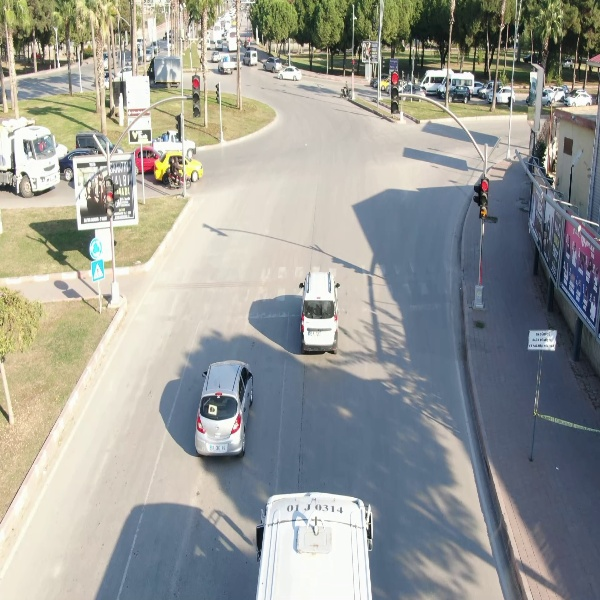car: (193, 359, 258, 459), (300, 268, 342, 354), (488, 84, 516, 106), (564, 89, 595, 106), (448, 84, 473, 104), (277, 65, 302, 82), (261, 55, 282, 75), (241, 47, 260, 66)
